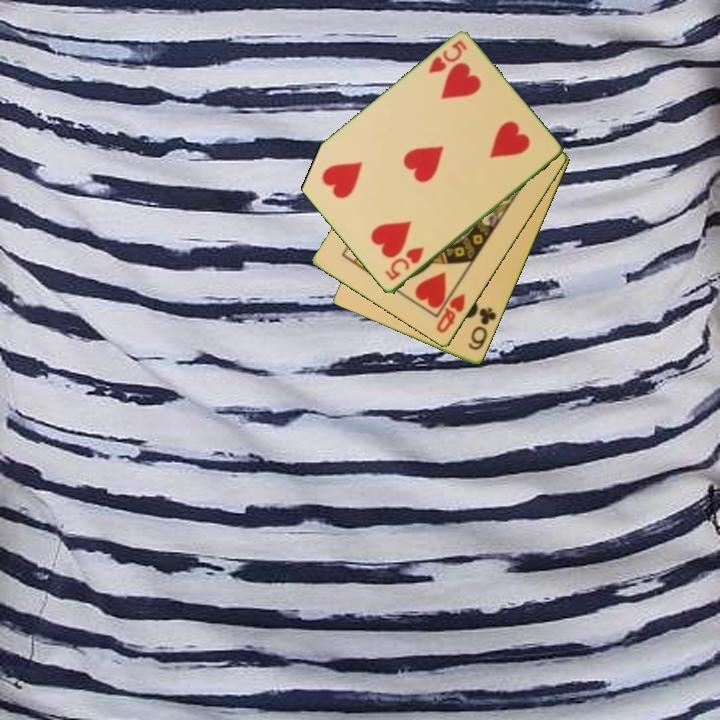5h: (381, 243, 427, 284), (424, 37, 470, 77)
6c: (464, 304, 500, 354)
Qh: (433, 290, 468, 337)
